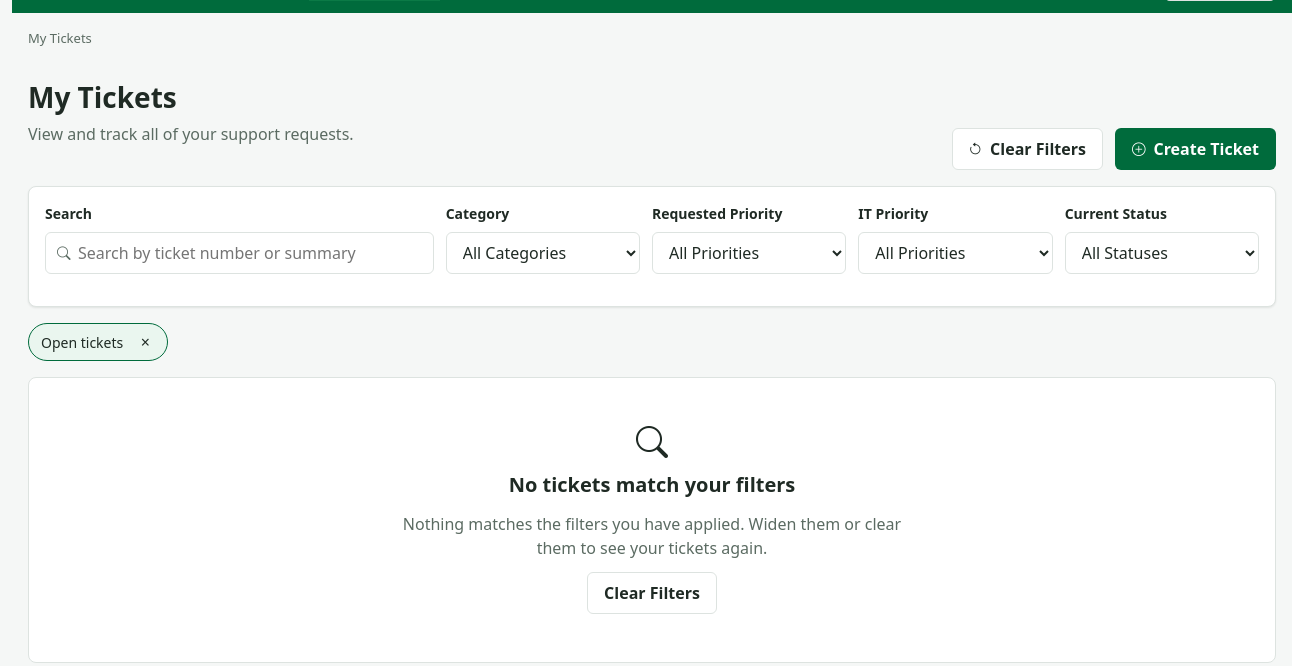
Scenario: UI-17 My Tickets reads URL filters › choosing a status drops the group, which the API would refuse alongside it
Select "New" in the dropdown labelled "Current Status": point(1162, 253) [1065, 232, 1259, 274]
(page scrolled)
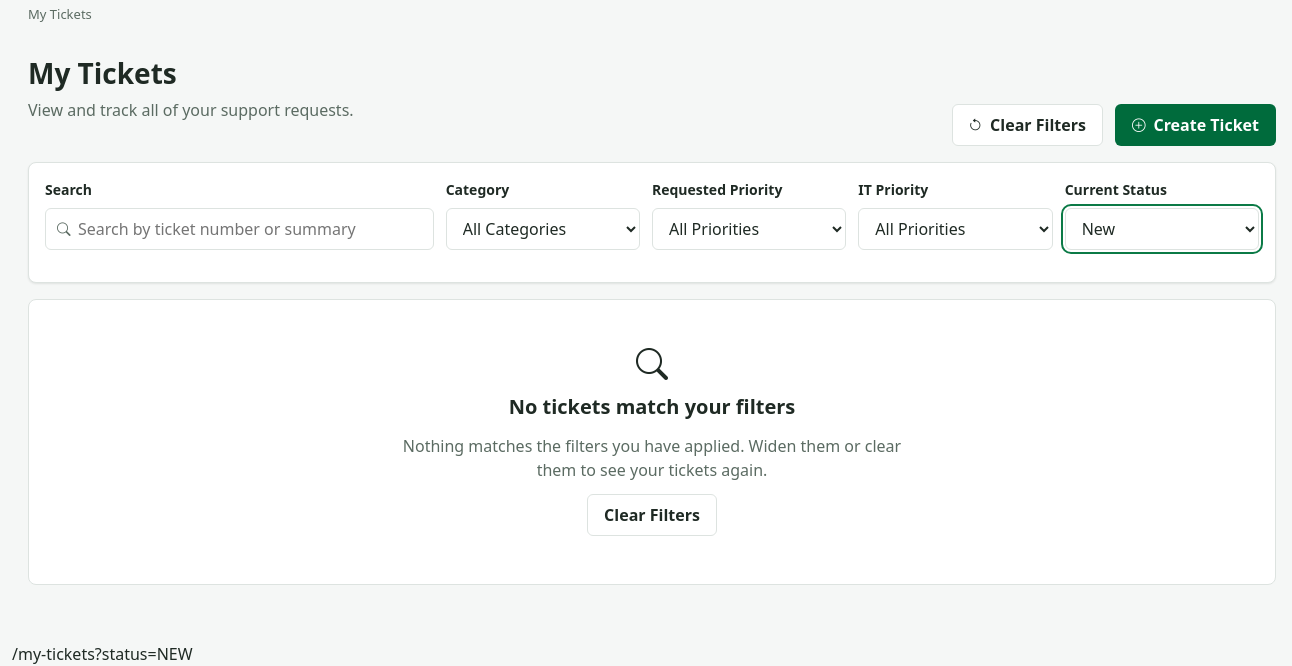
Expected: the text with test id "where" reads "/my-tickets?status=NEW", [12, 643, 193, 665]
